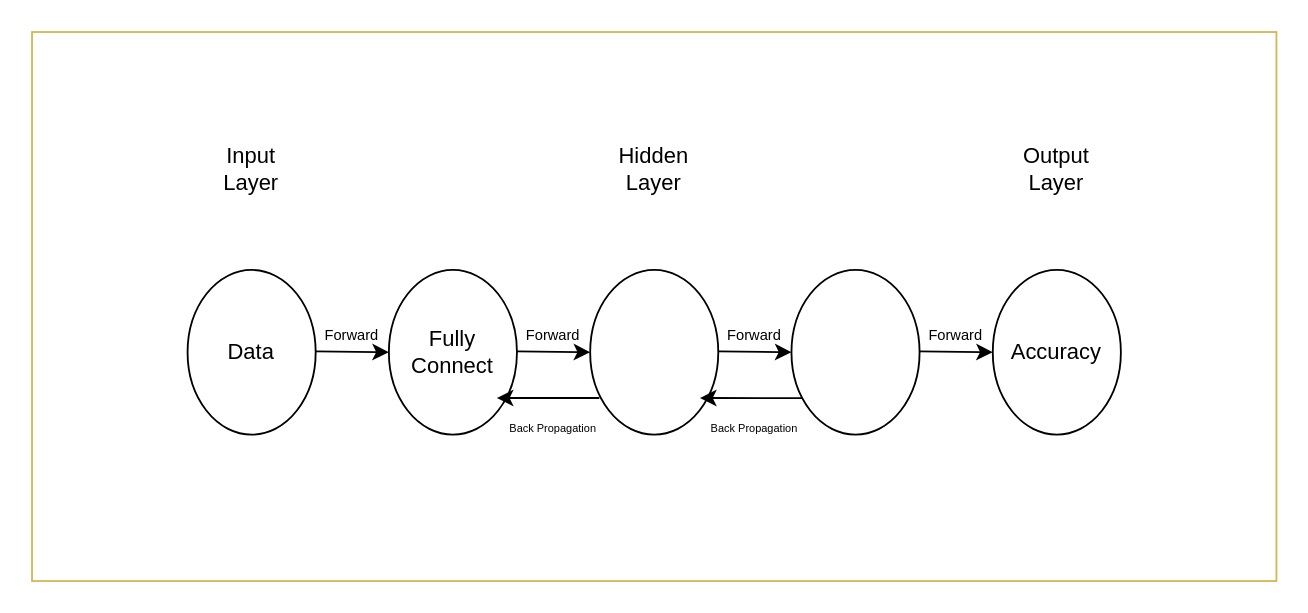
Some shapes in this 1308 by 613 pixel diagram are drawn without their labels. Each missing label, with the box of its shape:
Activation: (588, 268, 718, 435)
Loss: (790, 268, 920, 435)
